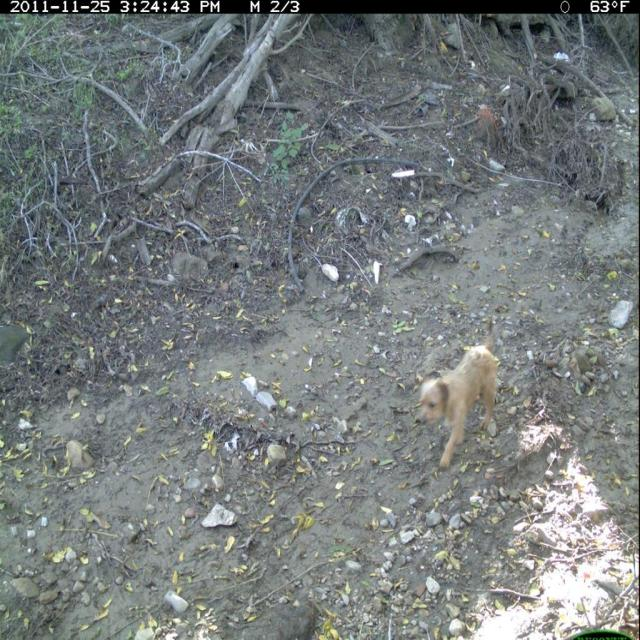dog: (413, 315, 501, 475)
